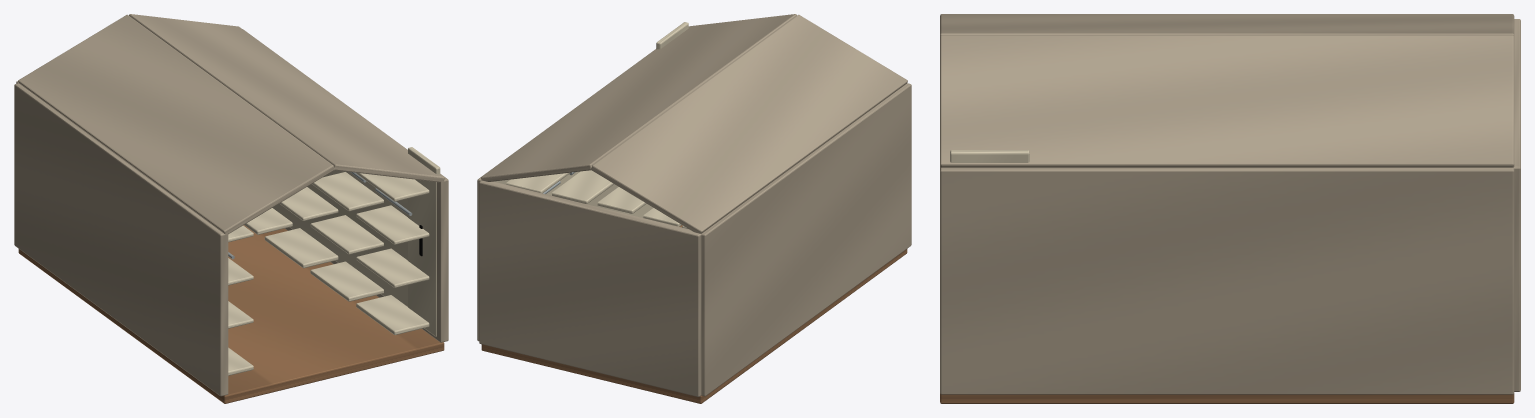
Rendered from room.obj.
3 renders of one model, left to right at view 1: azimuth 30°, elevation 25°; view 2: azimuth 150°, elevation 25°; view 3: azimuth 270°, elevation 25°, orthographic. The views are drawn at different scales.
Visible parts, largest first — view 1: Left_Wall, Left_Sloped_Ceiling, Floor, Right_Sloped_Ceiling, Tall_Right_Door, Wardrobe_Back.001, Right_Wall, Shelf_1_2_Bottom, Shelf_1_1_Bottom, Shelf_1_0_Bottom, Shelf_1_1_0.8, Shelf_1_0_0.8 (+8 smaller); view 2: Back_Wall, Left_Wall, Left_Sloped_Ceiling, Right_Sloped_Ceiling, Floor, Shelf_1_2_1.4, Shelf_1_1_0.8, Shelf_1_3_2.0, Right_Wall, Wardrobe_Back.001; view 3: Right_Wall, Right_Sloped_Ceiling, Left_Sloped_Ceiling, Floor, Back_Wall, Tall_Right_Door.
Part boxes in pixels (bbox=[...]): Left_Wall: bbox=[14, 83, 228, 396]; Left_Sloped_Ceiling: bbox=[18, 14, 334, 234]; Floor: bbox=[18, 225, 444, 403]; Right_Sloped_Ceiling: bbox=[129, 14, 444, 182]; Tall_Right_Door: bbox=[408, 147, 440, 336]; Wardrobe_Back.001: bbox=[272, 170, 407, 306]; Right_Wall: bbox=[242, 29, 448, 342]; Shelf_1_2_Bottom: bbox=[264, 228, 338, 268]; Shelf_1_1_Bottom: bbox=[310, 261, 383, 301]; Shelf_1_0_Bottom: bbox=[356, 295, 429, 334]; Shelf_1_1_0.8: bbox=[310, 215, 383, 254]; Shelf_1_0_0.8: bbox=[356, 248, 429, 287]; Back_Wall: bbox=[479, 180, 701, 396]; Left_Wall: bbox=[701, 83, 911, 396]; Left_Sloped_Ceiling: bbox=[591, 14, 907, 233]; Right_Sloped_Ceiling: bbox=[481, 14, 796, 181]; Floor: bbox=[481, 225, 907, 403]; Shelf_1_2_1.4: bbox=[552, 170, 613, 203]; Shelf_1_1_0.8: bbox=[597, 187, 646, 213]; Shelf_1_3_2.0: bbox=[506, 172, 570, 193]; Right_Wall: bbox=[477, 49, 655, 341]; Wardrobe_Back.001: bbox=[494, 171, 653, 217]; Right_Wall: bbox=[940, 167, 1514, 394]; Right_Sloped_Ceiling: bbox=[940, 35, 1514, 167]; Left_Sloped_Ceiling: bbox=[940, 14, 1514, 36]; Floor: bbox=[940, 393, 1514, 403]; Back_Wall: bbox=[1513, 19, 1520, 391]; Tall_Right_Door: bbox=[950, 150, 1029, 162].
Size of the model in its own units: 3.32 by 2.95 by 5.26.
Materials: 6 (6 with a texture image).
